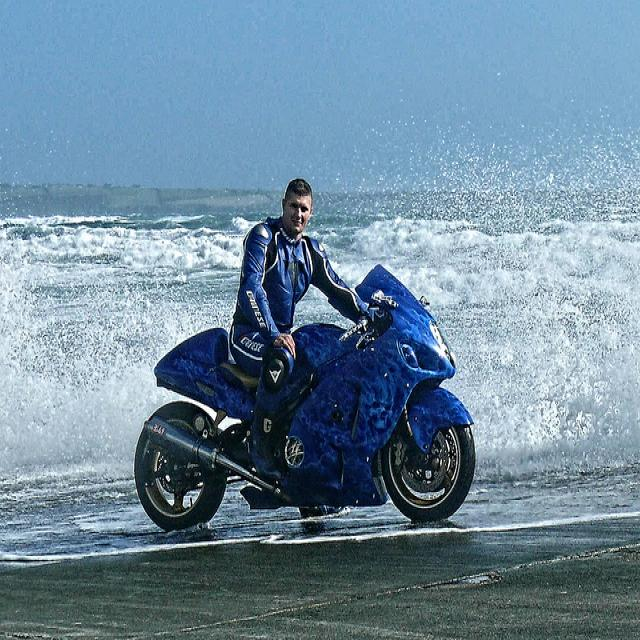motor: (128, 262, 497, 532)
